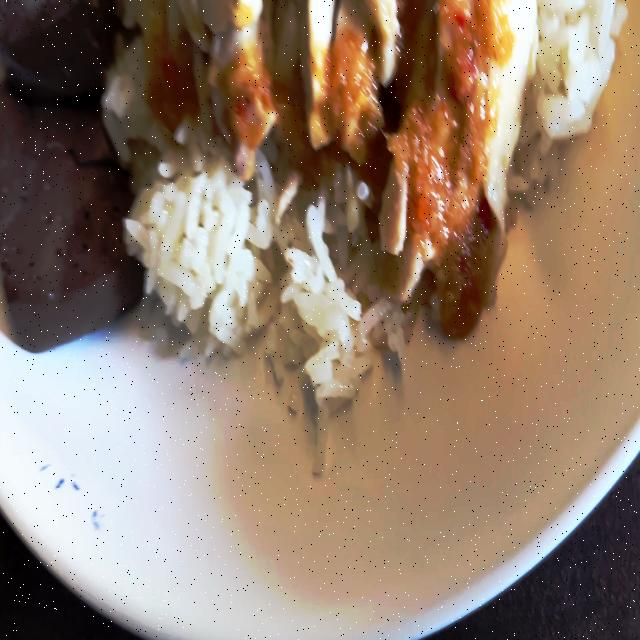boiled_chicken: (140, 0, 521, 323)
boiled_chicken_blood_jelly: (0, 0, 138, 327)
chicken_rice: (0, 0, 634, 417)
